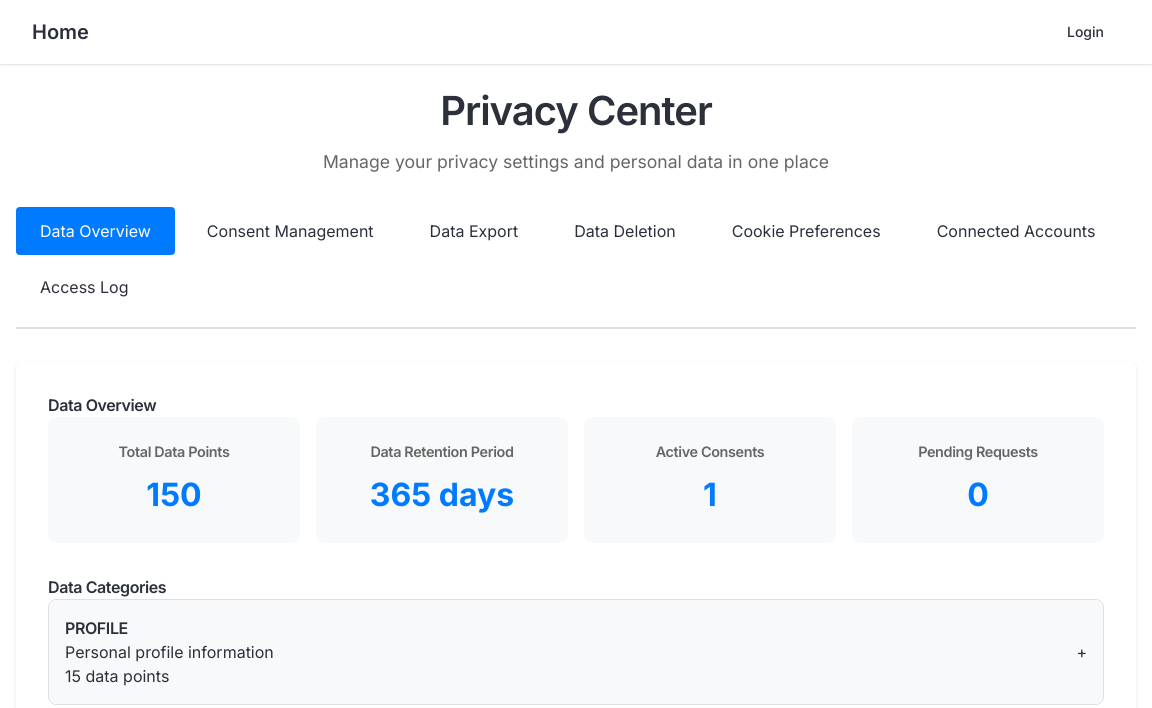
Test: PrivacyCenter Page › Data Export › should show export button
Note: Switch to Data Export tab
Click the button "Data Export" at (474, 231), box [406, 207, 542, 255]
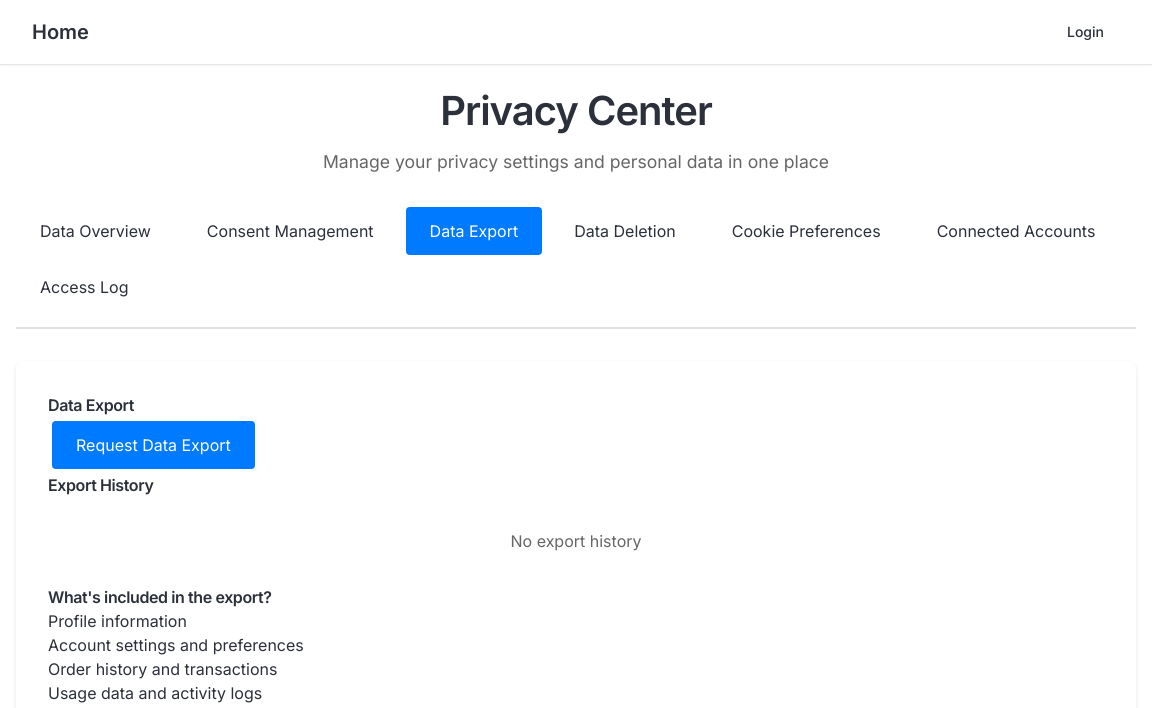
Expected: the button "Request Data Export" is shown, [52, 421, 255, 469]
